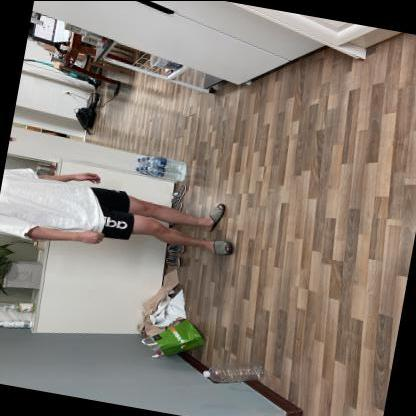no_safety-shoe: (195, 233, 242, 272), (195, 193, 232, 236)
